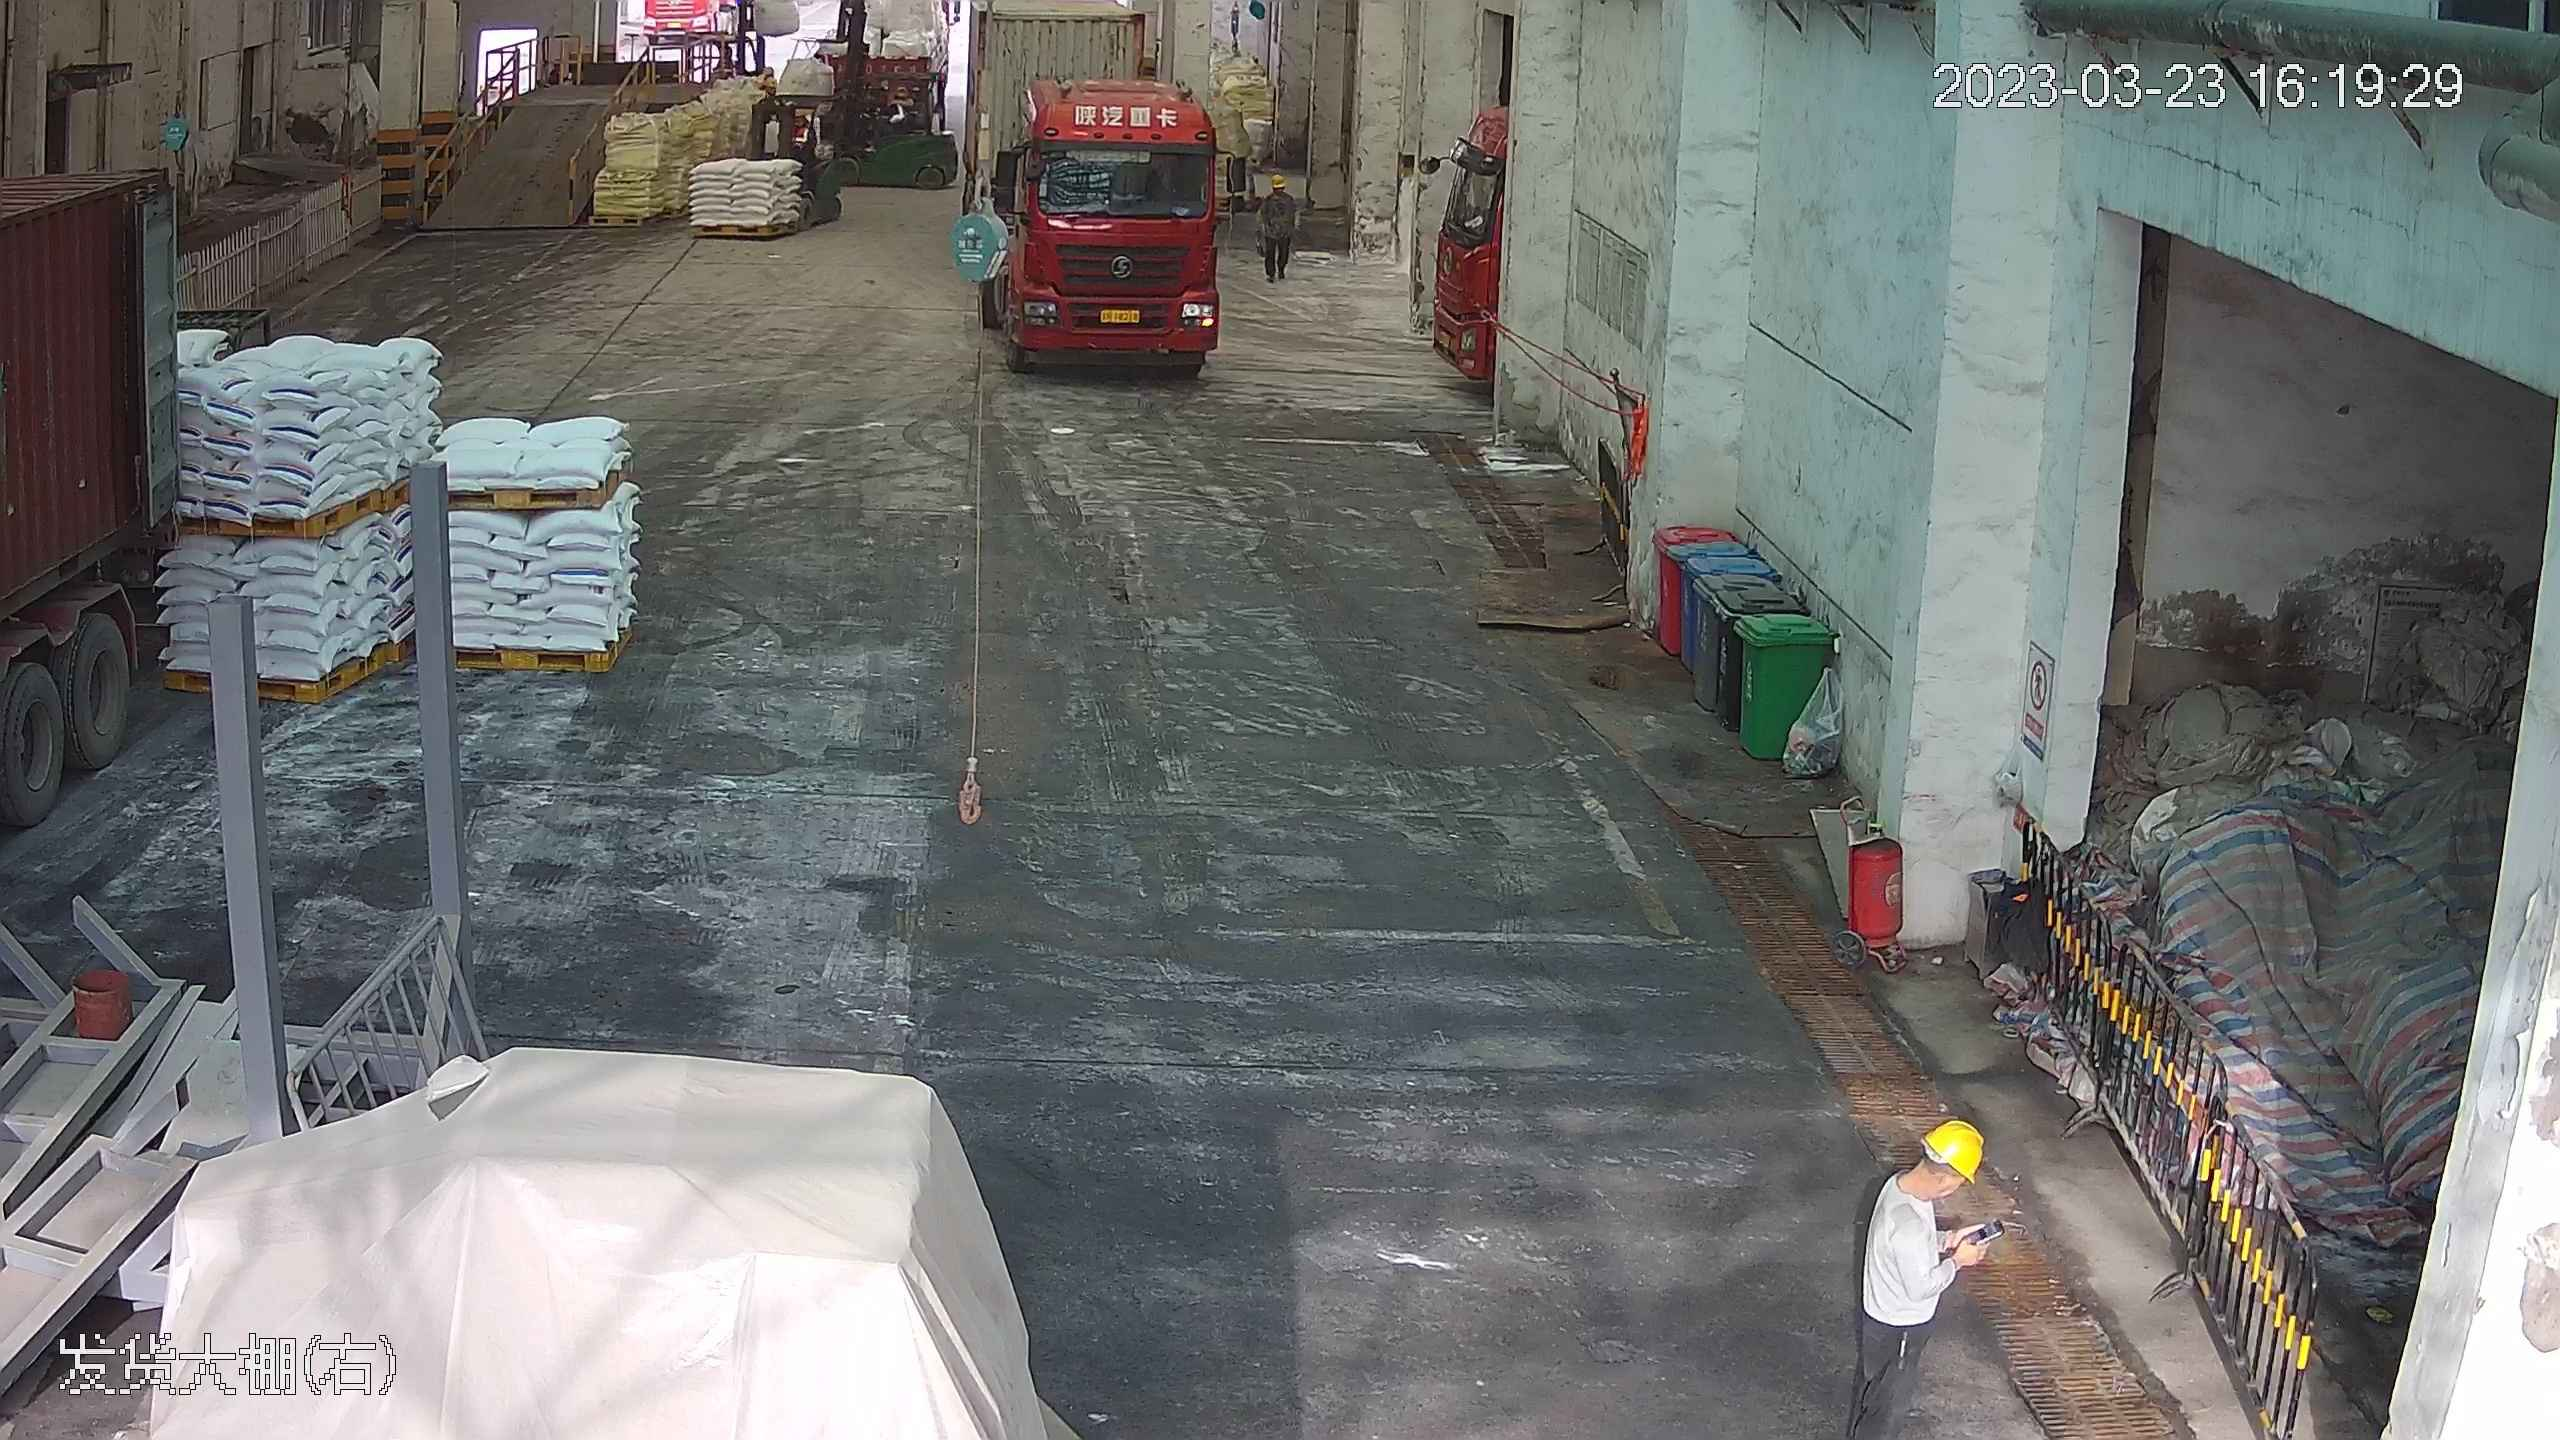head: (1877, 1115, 1989, 1225), (1256, 172, 1295, 215)
helmet: (1926, 1116, 1987, 1174), (1265, 172, 1290, 192)
people: (1844, 1110, 1996, 1436), (1251, 171, 1299, 284)
truck: (1, 22, 195, 1060), (955, 5, 1243, 367)
